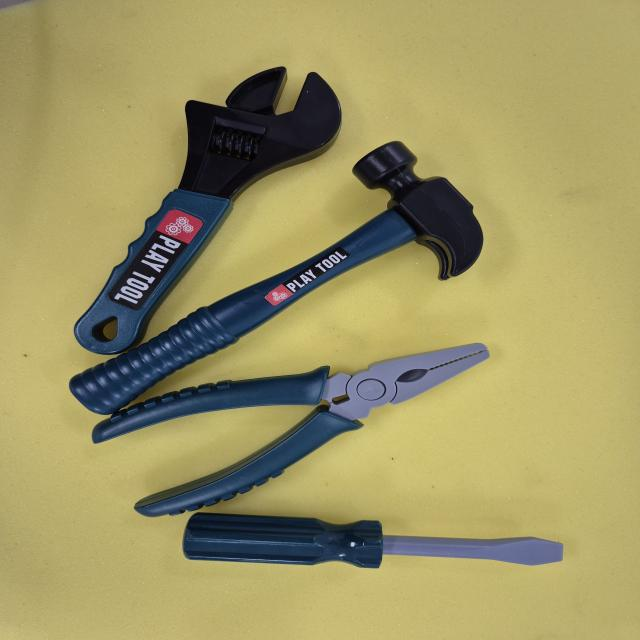hammer: (34, 116, 494, 424)
pliers: (69, 334, 510, 522)
screwdriver: (165, 503, 577, 592)
wrench: (51, 51, 356, 362)
